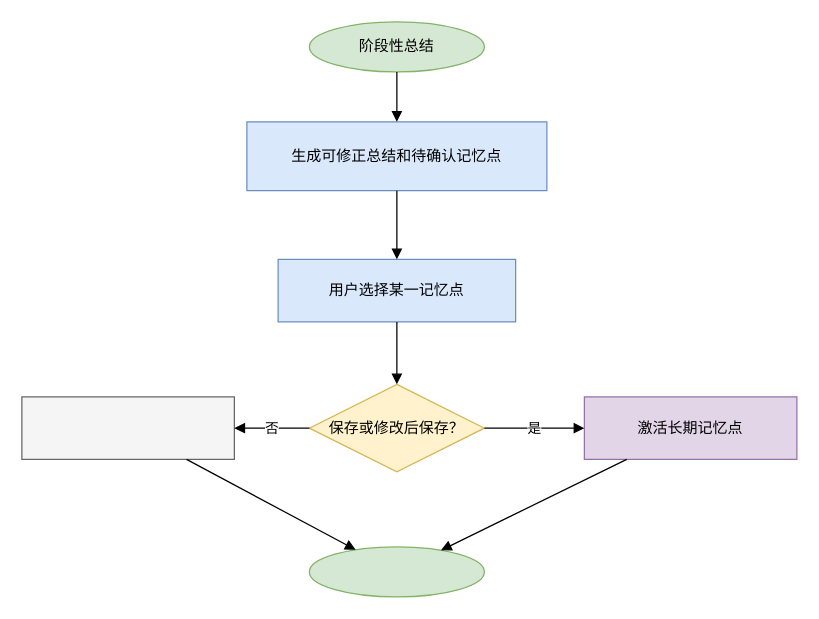
The diagram is 819 pixels wide and 619 high, and some of its shapes have lost their labels. Each missing label, with the centre of its shape:
"稍后决定 / 拒绝" belongs at point (127, 427).
"返回普通聊天" belongs at point (396, 571).
